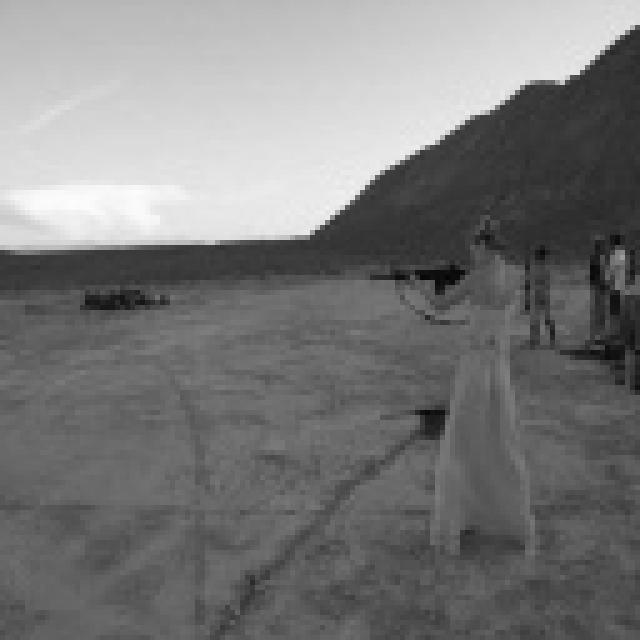Rifle: (352, 242, 484, 336), (535, 309, 640, 385), (499, 214, 552, 344)
